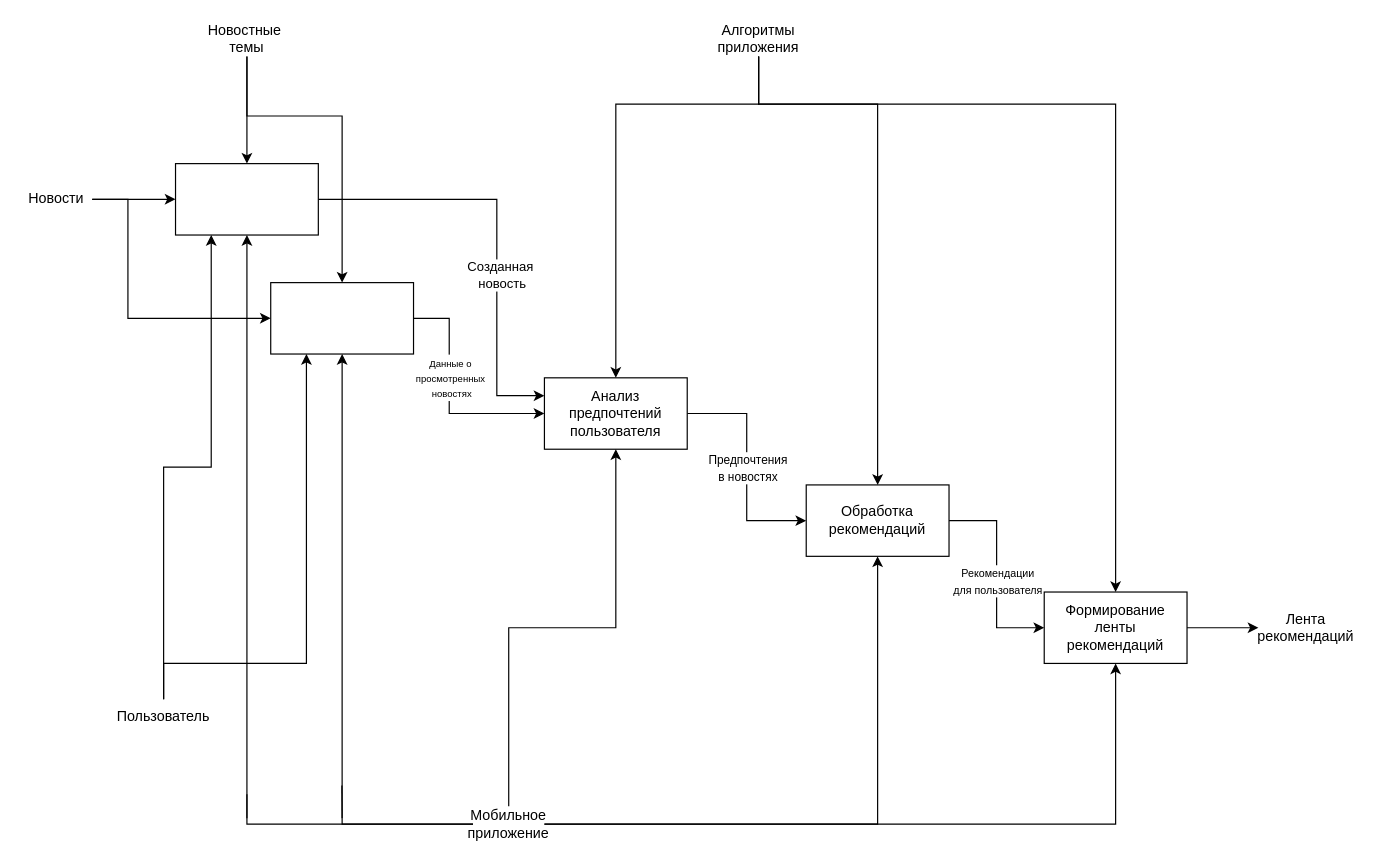
The diagram is 1374 pixels wide and 862 high, and some of its shapes have lost their labels. The shapes that lost their labels are listed below. From the top down, each one's centre as x and y in pixels, then its label:
At point 246,198: "Создание новостей".
At point 342,317: "Просмотр новостей".
